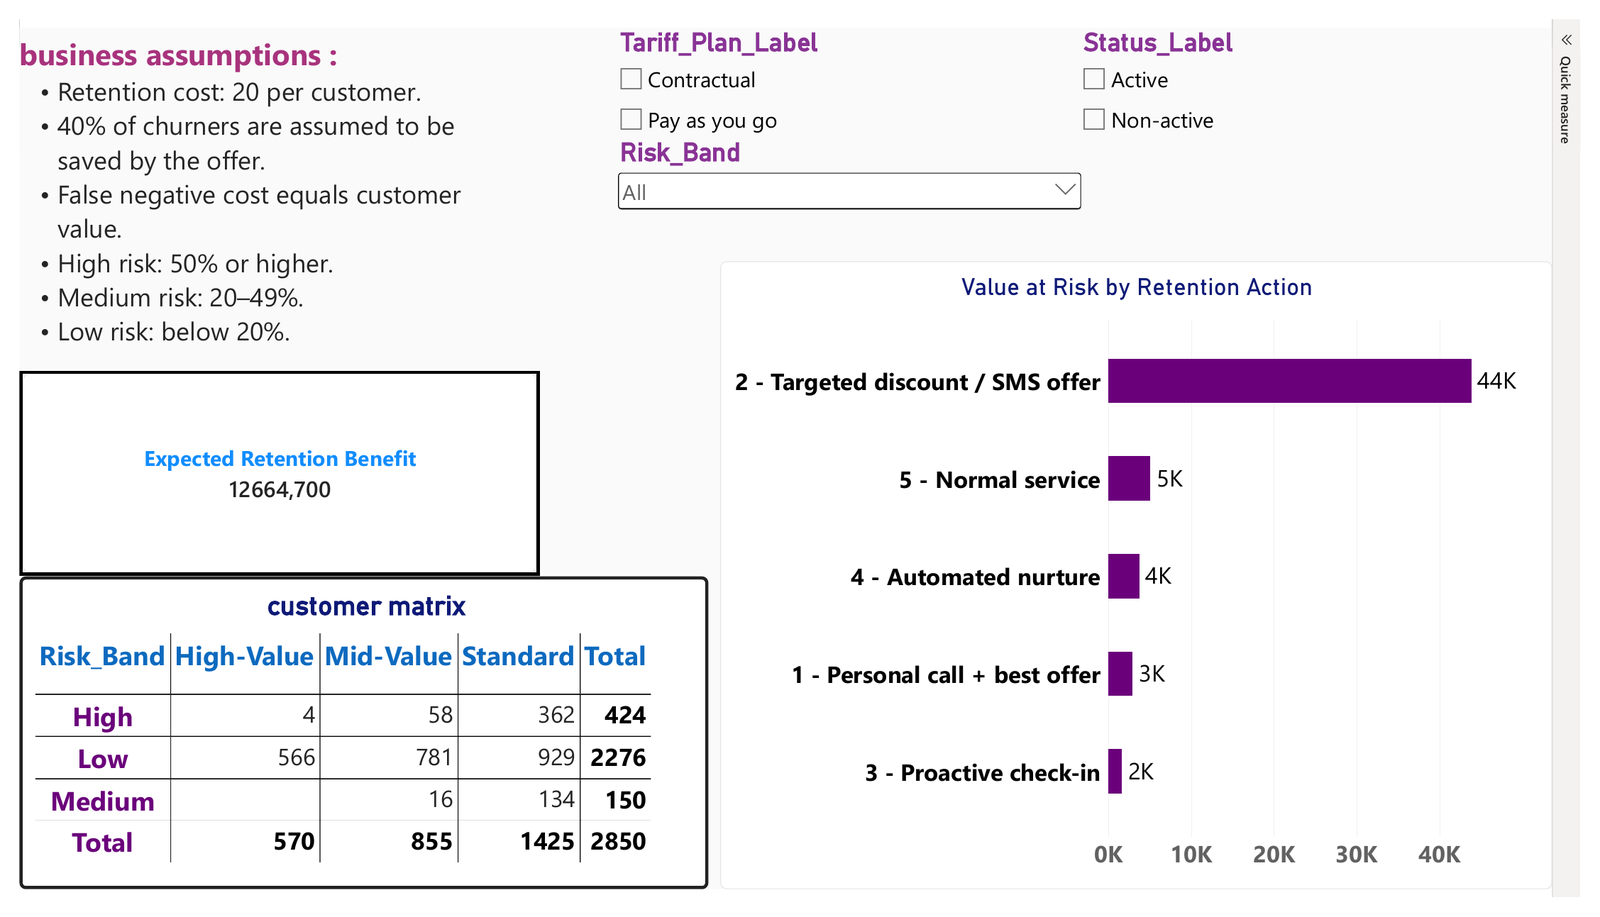

The dashboard page shown, as its layout file describes it:
{"tool":"powerbi","page":{"name":"Retention Plan","canvas":[1920,1080],"ordinal":2},"visuals":[{"type":"clusteredBarChart","title":"Value at Risk by Retention Action","fields":{"Category":["churn_scored.Retention_Action"],"Y":["churn_scored.Value at Risk"]},"box":[877.5,292.5,1042.5,787.5],"z":0},{"type":"pivotTable","title":"customer matrix","fields":{"Columns":["churn_scored.Value_Tier"],"Rows":["churn_scored.Risk_Band"],"Values":["churn_scored.customers"]},"box":[0,687.5,862.5,392.5],"z":1000},{"type":"cardVisual","fields":{"Data":["churn_scored.Expected Retention Benefit"]},"box":[0,430,652.5,257.5],"z":2000},{"type":"slicer","fields":{"Values":["churn_scored.Status_Label"]},"box":[1325,0,596,160],"z":2001},{"type":"slicer","fields":{"Values":["churn_scored.Tariff_Plan_Label"]},"box":[745,0,580,160],"z":2002},{"type":"slicer","fields":{"Values":["churn_scored.Risk_Band"]},"box":[745,137.5,590,125],"z":2003},{"type":"textbox","box":[0,7.5,590,422.5],"z":2004}]}

Visuals, with their boxes on the page's 1920x1080 design canvas (x1, y1, x2, y2). These are canvas units, not pixel positions in the 1600x917 screenshot, which may show the page scaled, cropped or inside an application window:
"Value at Risk by Retention Action" clusteredBarChart: x1=878, y1=292, x2=1920, y2=1080
"customer matrix" pivotTable: x1=0, y1=688, x2=862, y2=1080
cardVisual - churn_scored.Expected Retention Benefit: x1=0, y1=430, x2=652, y2=688
slicer - churn_scored.Status_Label: x1=1325, y1=0, x2=1921, y2=160
slicer - churn_scored.Tariff_Plan_Label: x1=745, y1=0, x2=1325, y2=160
slicer - churn_scored.Risk_Band: x1=745, y1=138, x2=1335, y2=262
textbox: x1=0, y1=8, x2=590, y2=430
